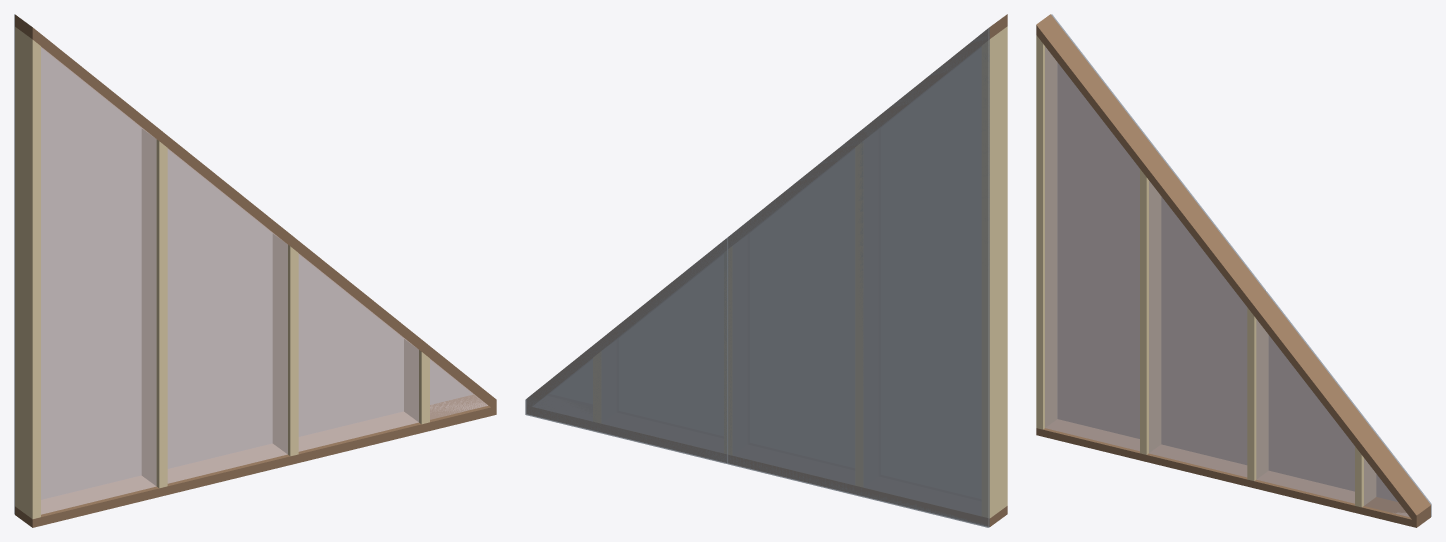
The model's file is EX6_GBL.glb.
3 views of the same model, side by side, from view 1: azimuth 30°, elevation 25°; view 2: azimuth 150°, elevation 25°; view 3: azimuth 330°, elevation 25° (orthographic). The views are drawn at different scales.
Parts seen in each view (by area): view 1: EX6 GBL; view 2: EX6 GBL; view 3: EX6 GBL.
Boxes of the visible parts, x1,y1,x2,y2 form: EX6 GBL: (14, 14, 496, 527); EX6 GBL: (525, 14, 1007, 527); EX6 GBL: (1036, 14, 1431, 527).
Size of the model in its own units: 2.12 by 2.19 by 0.149.
